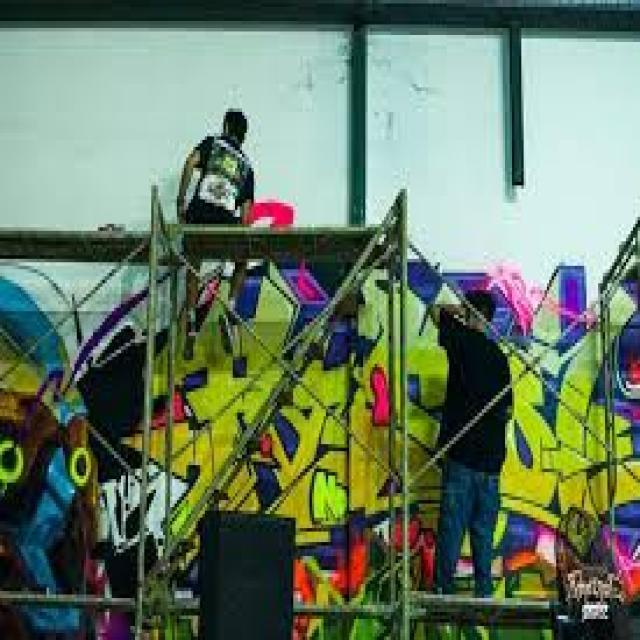-: (118, 269, 640, 559), (0, 276, 144, 636)
